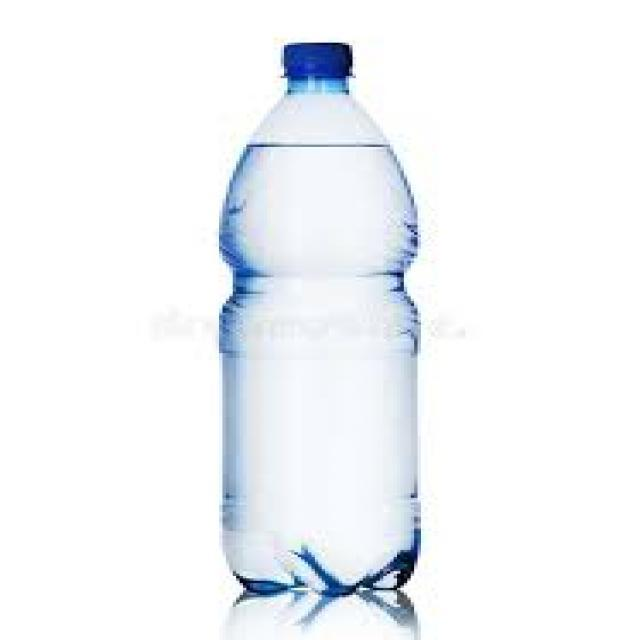Plastic: (215, 44, 424, 603)
